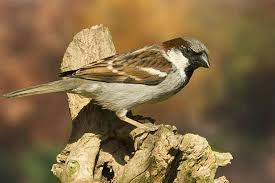hsparrow: (4, 31, 217, 133)
